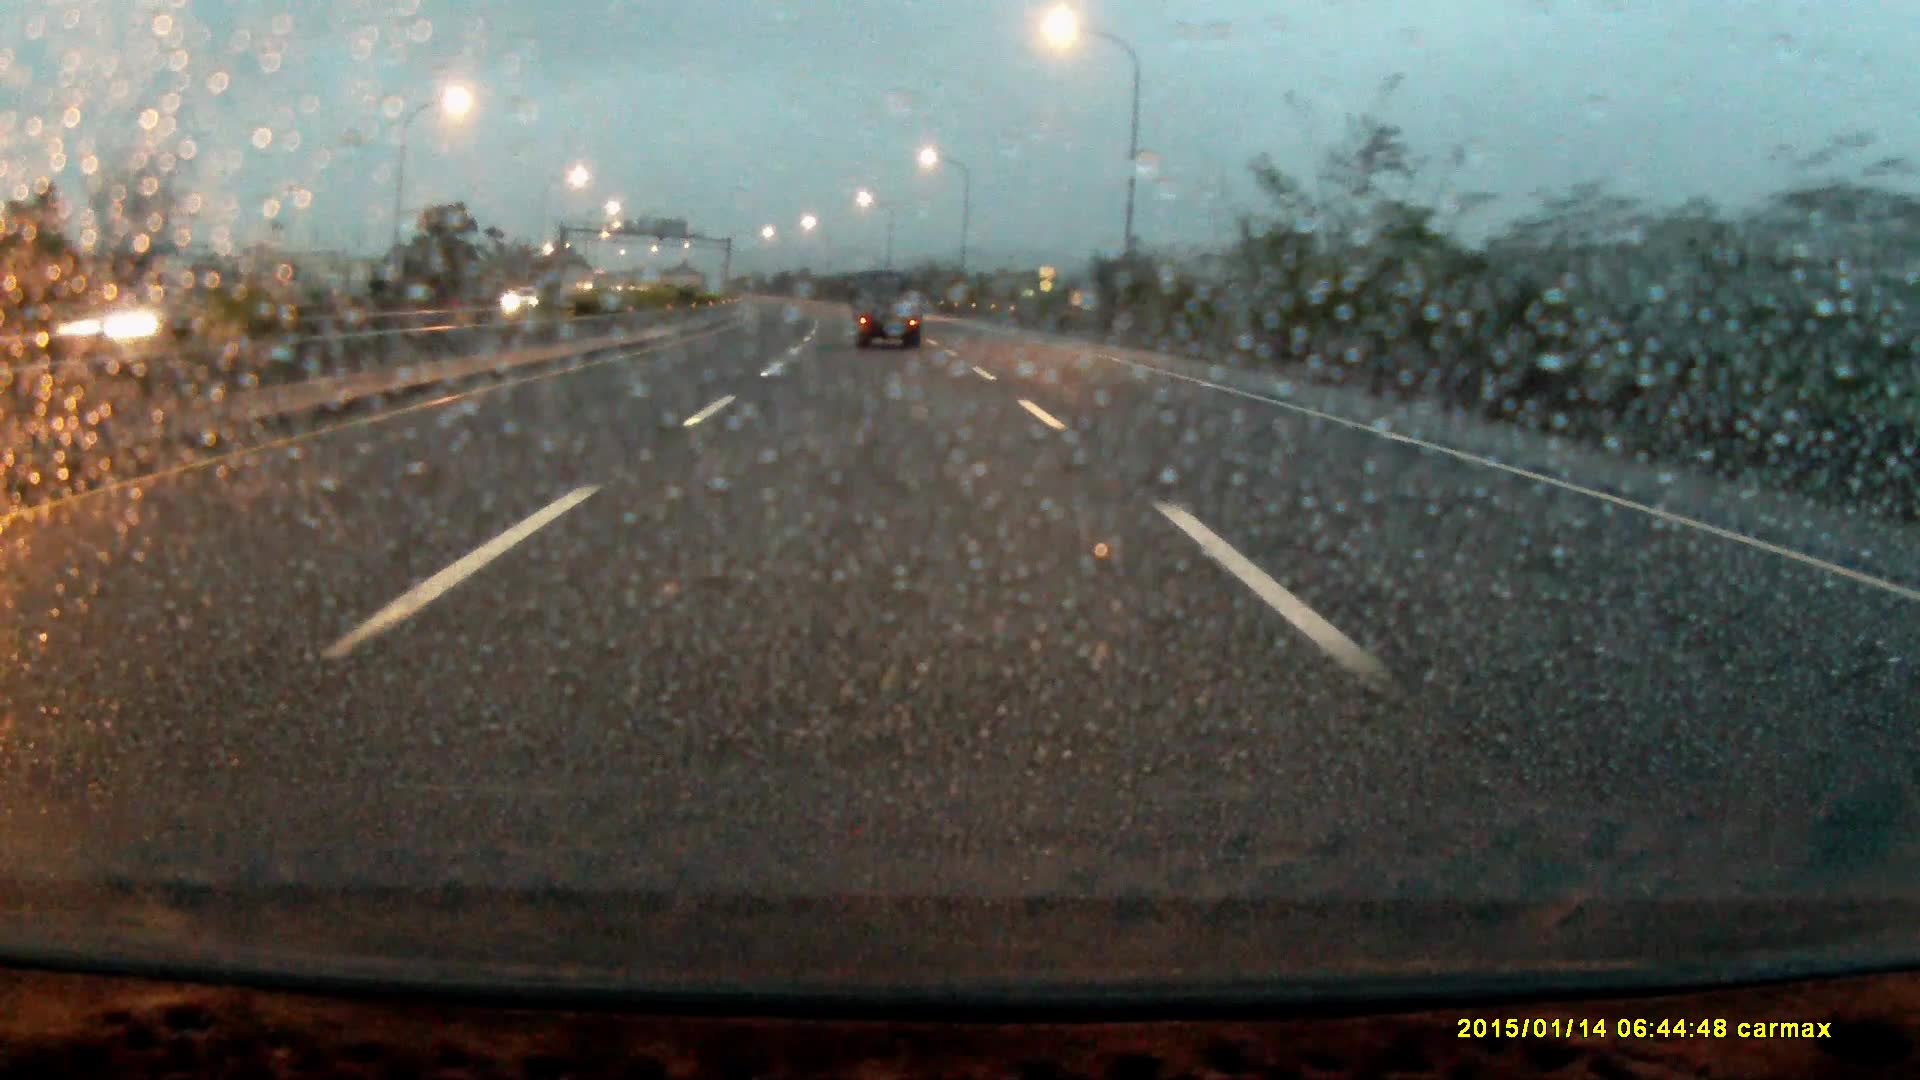vehicle: (851, 273, 923, 352), (502, 287, 564, 320)
